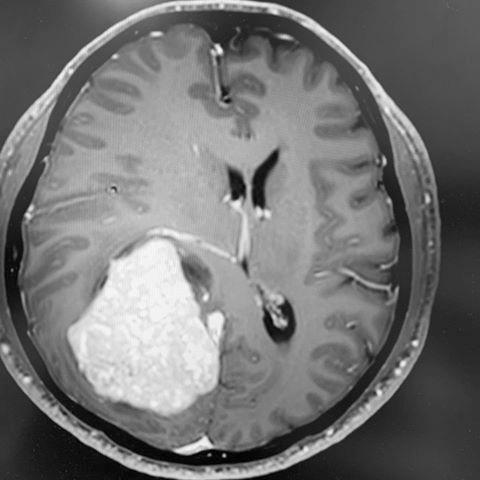Tumour-Meningioma: (55, 236, 243, 433)
